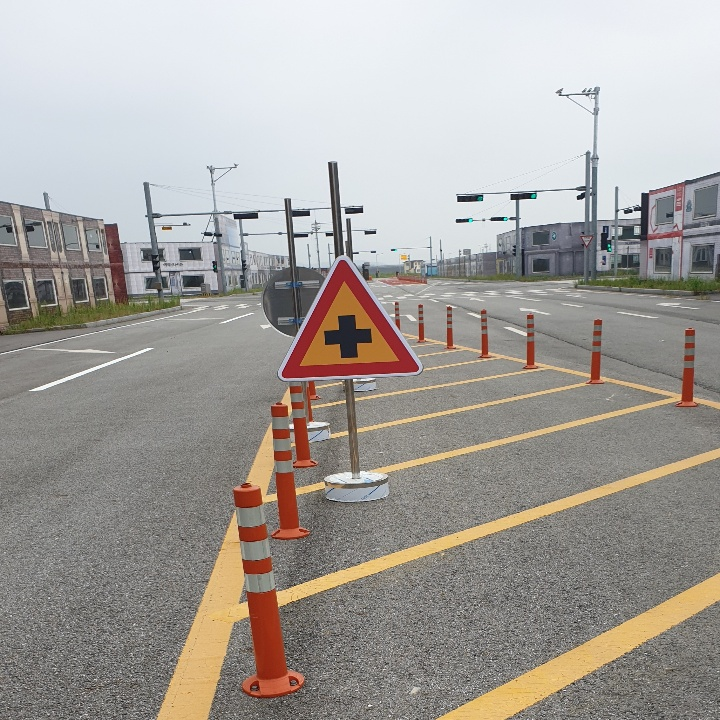inter: (317, 308, 376, 365)
